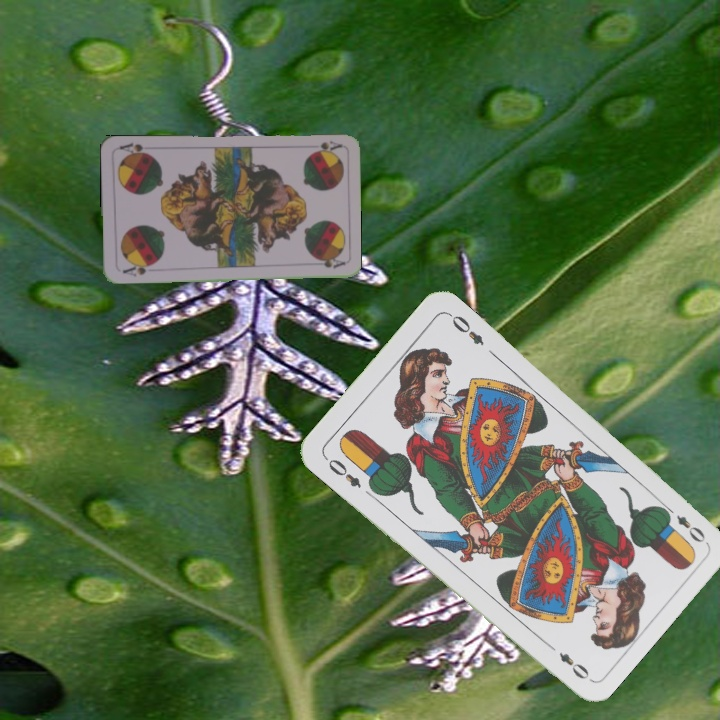EO: (659, 501, 709, 546), (320, 453, 364, 491)
SA: (306, 137, 344, 157), (119, 259, 156, 279)
